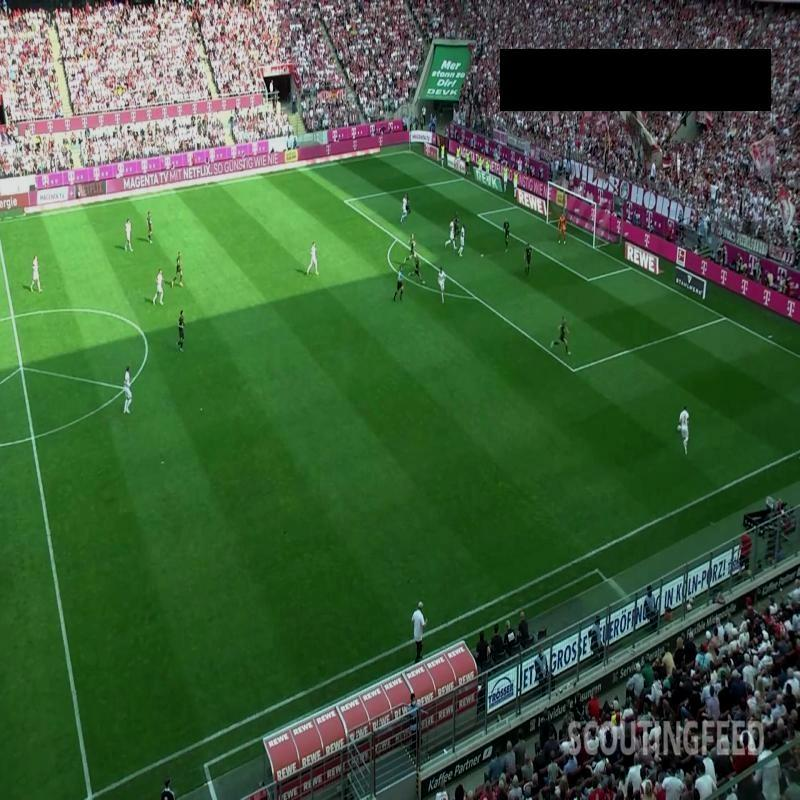1: (402, 142, 416, 157)
10: (390, 231, 404, 244)
11: (468, 289, 482, 303)
12: (567, 363, 581, 377)
14: (4, 308, 18, 322)
15: (25, 430, 39, 444)
16: (79, 790, 101, 800)
2: (456, 170, 470, 184)
3: (510, 198, 524, 212)
4: (624, 259, 638, 273)
5: (718, 312, 732, 326)
7: (472, 206, 486, 220)
8: (582, 272, 596, 286)
9: (339, 193, 353, 207)
c: (137, 331, 151, 345)
